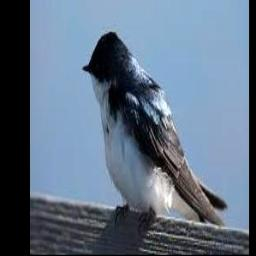Swallow: (82, 32, 228, 228)
